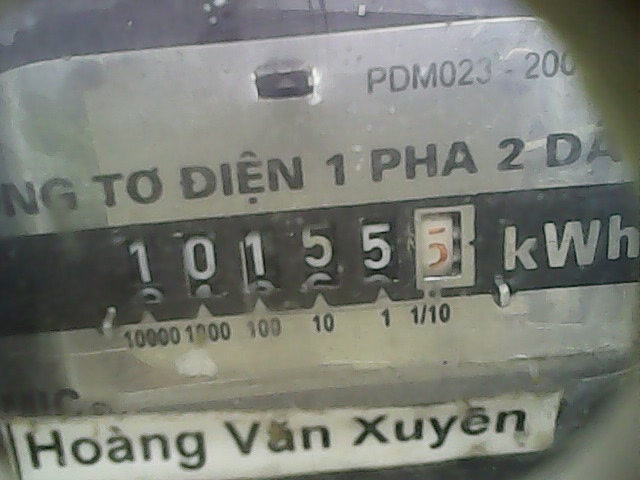phy_plate: (114, 193, 487, 321)
